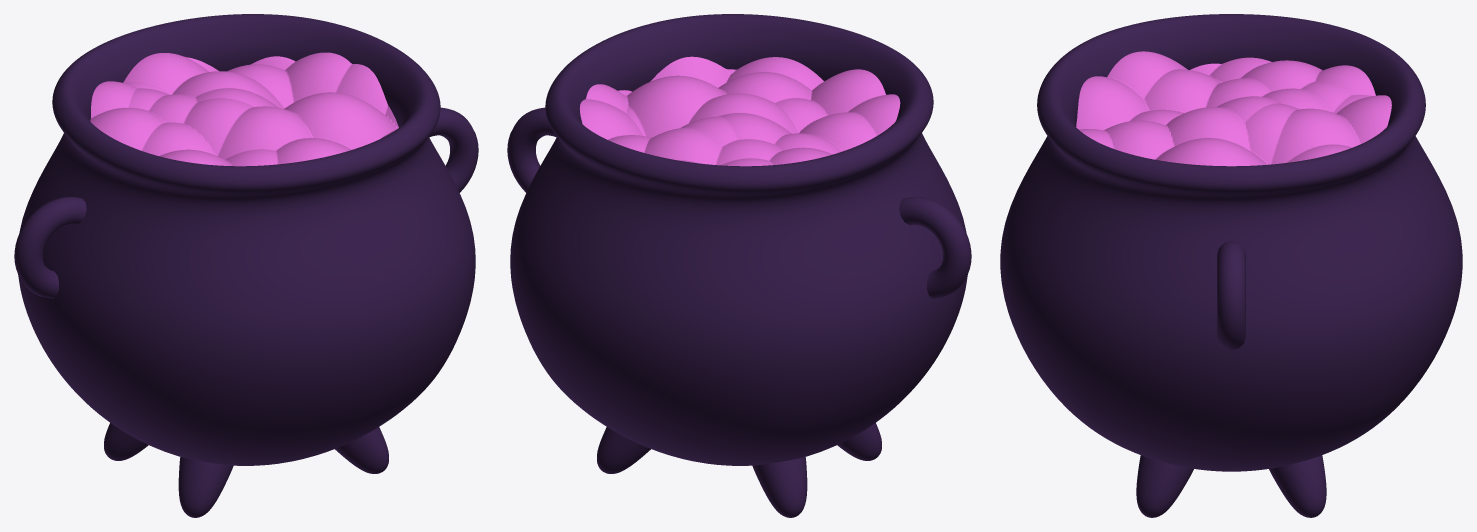
The model's file is caldero.fbx.
The picture shows the model from 3 angles, left to right: view 1: azimuth 30°, elevation 25°; view 2: azimuth 150°, elevation 25°; view 3: azimuth 270°, elevation 25°; orthographic projection.
Parts seen in each view (by area): view 1: Cube, Plane.002, Torus, Cube.001; view 2: Cube, Plane.002, Torus, Cube.001; view 3: Cube, Plane.002, Cube.001, Torus.
Boxes of the visible parts, x1,y1,x2,y2 form: Cube: [18, 14, 475, 465]; Plane.002: [90, 52, 398, 166]; Torus: [14, 107, 478, 298]; Cube.001: [104, 423, 388, 517]; Cube: [510, 14, 967, 465]; Plane.002: [580, 56, 900, 166]; Torus: [507, 107, 971, 298]; Cube.001: [597, 423, 881, 517]; Cube: [1000, 14, 1462, 471]; Plane.002: [1076, 51, 1391, 166]; Cube.001: [1136, 455, 1326, 517]; Torus: [1217, 241, 1245, 350].
Bounding box in the file's own units: 186 × 145 × 159.
